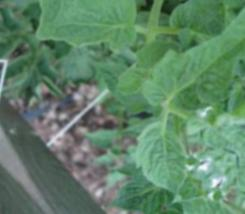Tomato leaf mosaic virus: (11, 0, 163, 109), (128, 18, 245, 138), (117, 106, 208, 202), (197, 104, 245, 167), (160, 0, 210, 41), (112, 58, 155, 98)
